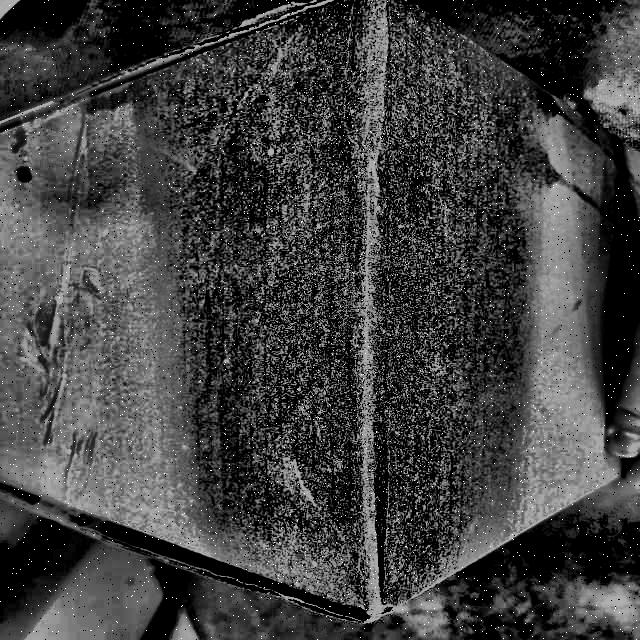box: (1, 1, 640, 631)
wet: (135, 0, 559, 621)
